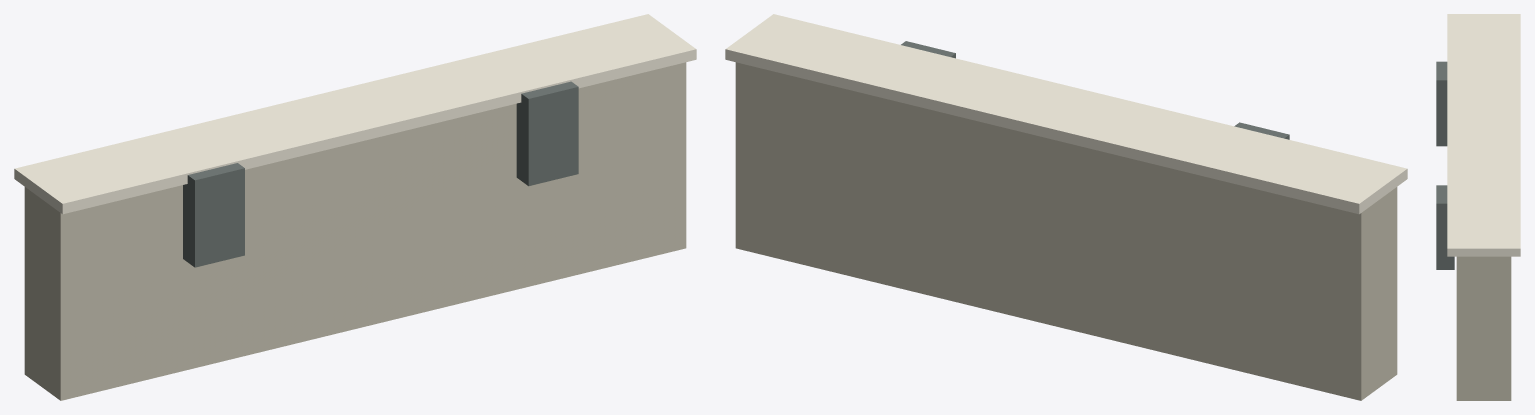
The picture shows the model from 3 angles, left to right: view 1: azimuth 30°, elevation 25°; view 2: azimuth 150°, elevation 25°; view 3: azimuth 270°, elevation 25°; orthographic projection. The views are drawn at different scales.
Size of the model in its own units: 15.2 by 4.64 by 2.3.
